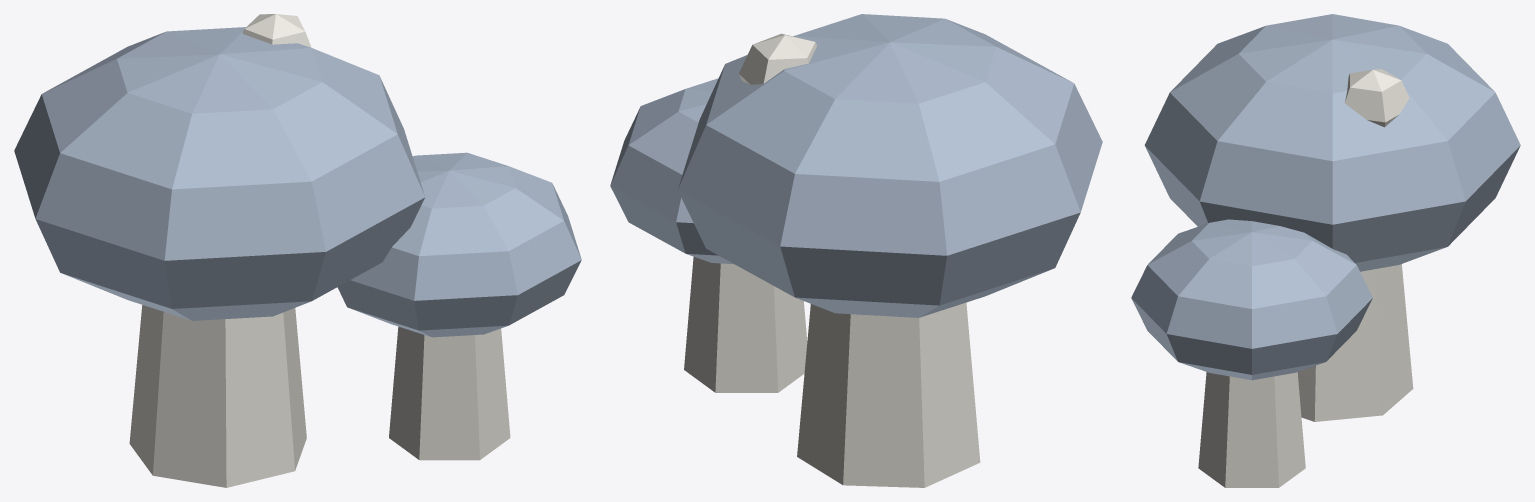
The model's file is stormcap.glb.
3 views of the same model, side by side, from view 1: azimuth 30°, elevation 25°; view 2: azimuth 150°, elevation 25°; view 3: azimuth 270°, elevation 25° (orthographic). The views are drawn at different scales.
Parts seen in each view (by area): view 1: Cap, Cap2, Stem, Stem2, CapSpot; view 2: Cap, Stem, Stem2, Cap2, CapSpot; view 3: Cap, Cap2, Stem2, Stem, CapSpot.
Boxes of the visible parts, left/top/right/bottom form: Cap: left=14, top=27, right=425, bottom=320; Cap2: left=337, top=152, right=581, bottom=337; Stem: left=129, top=305, right=306, bottom=487; Stem2: left=389, top=326, right=510, bottom=460; CapSpot: left=242, top=14, right=311, bottom=47; Cap: left=678, top=14, right=1102, bottom=317; Stem: left=797, top=302, right=980, bottom=487; Stem2: left=684, top=257, right=807, bottom=392; Cap2: left=610, top=78, right=733, bottom=264; CapSpot: left=739, top=33, right=816, bottom=84; Cap: left=1144, top=14, right=1520, bottom=271; Cap2: left=1131, top=219, right=1372, bottom=380; Stem2: left=1198, top=372, right=1305, bottom=487; Stem: left=1297, top=264, right=1413, bottom=421; CapSpot: left=1345, top=69, right=1409, bottom=127.
Bounding box in the file's own units: 0.37 × 0.29 × 0.29.
